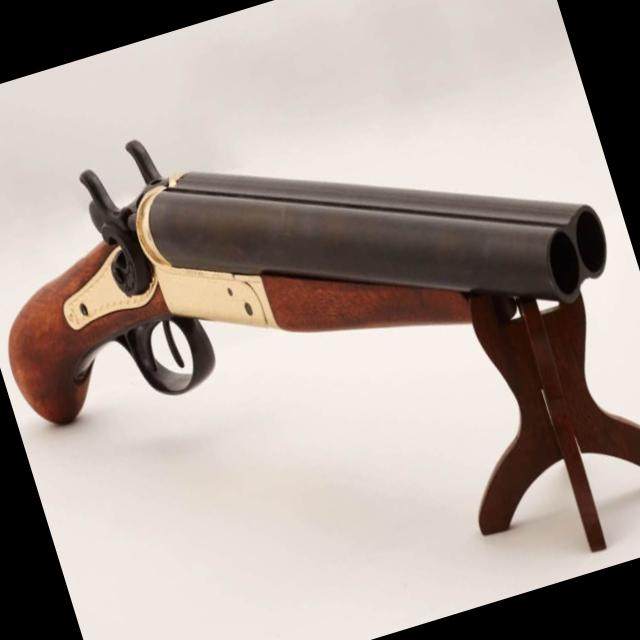Weapon: (0, 5, 640, 567)
